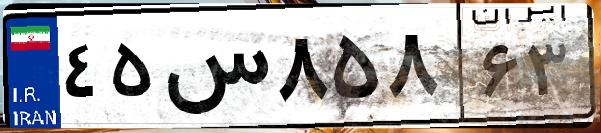3: (525, 38, 570, 115)
4: (57, 26, 110, 100)
5: (330, 28, 385, 110), (110, 28, 158, 98)
6: (475, 38, 525, 113)
8: (270, 28, 330, 110), (385, 28, 445, 110)
س: (158, 20, 270, 120)
